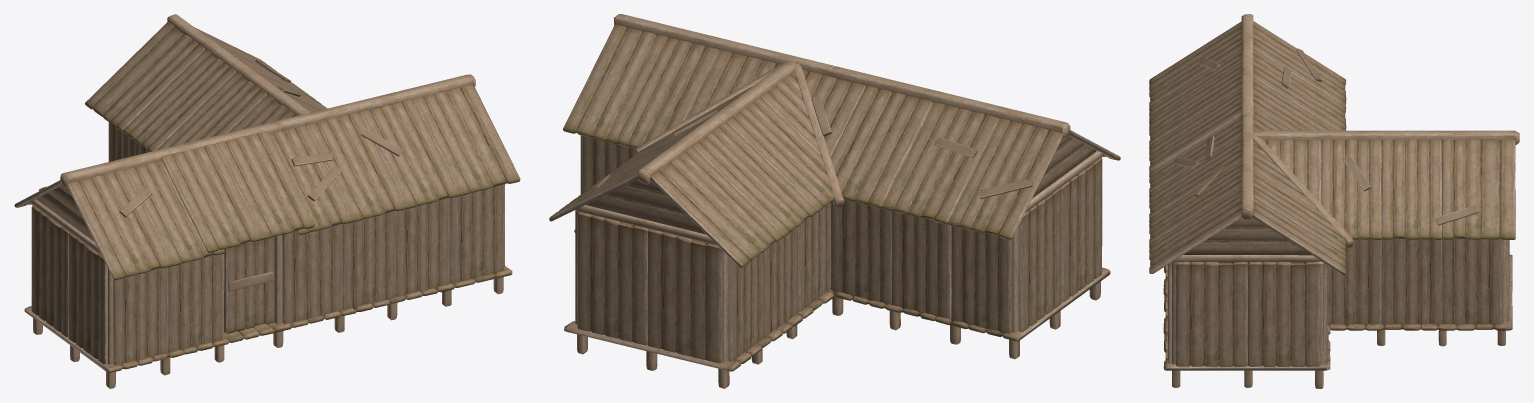
The model's file is House_01_exterior.fbx.
3 renders of one model, left to right at view 1: azimuth 30°, elevation 25°; view 2: azimuth 150°, elevation 25°; view 3: azimuth 270°, elevation 25°, orthographic. The views are drawn at different scales.
Parts seen in each view (by area): view 1: House_LOD0; view 2: House_LOD0; view 3: House_LOD0.
Part boxes in pixels (box(x1,y1,x2,y2)): House_LOD0: box(14, 14, 520, 388); House_LOD0: box(549, 14, 1120, 388); House_LOD0: box(1149, 14, 1519, 388).
Size of what is drawn, in the model's own units: 10.32 by 4.53 by 8.25.
